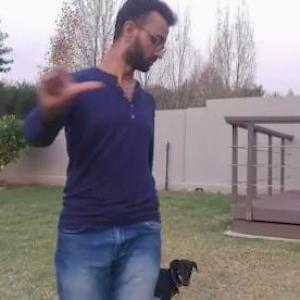land_hand: (30, 22, 106, 103)
